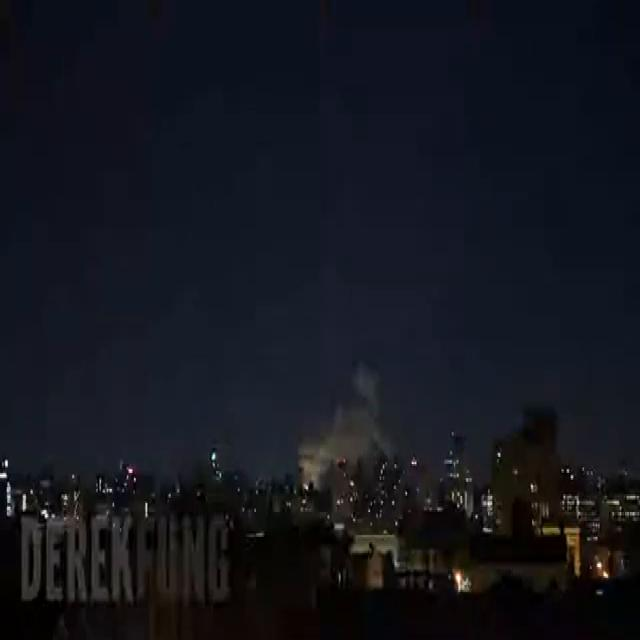smoke: (298, 363, 392, 484)
